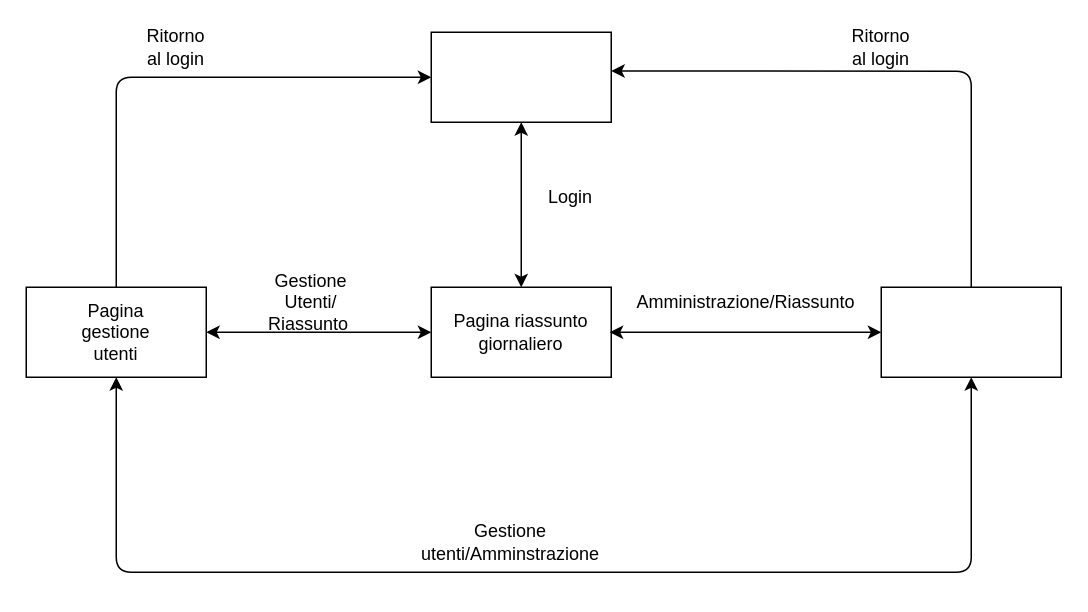
Image size: 1088x612. Some labels were removed from this diagram. Each missing label, with the centre of its shape:
"Pagina amministrazione" goes at point (970, 331).
"Pagina Login" goes at point (520, 76).
